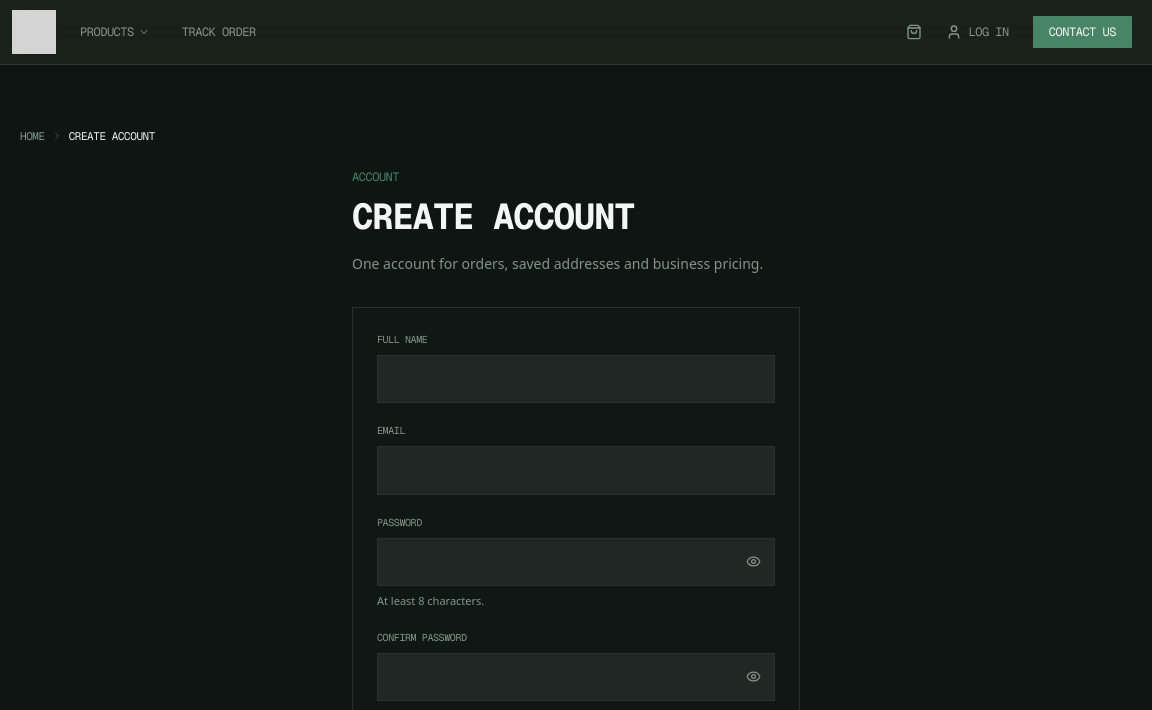
Test: signup › reports an existing account
Expected: the heading "Create Account" is shown, [352, 192, 634, 240]
In the field labelled "Full name": (576, 379) [377, 355, 775, 403], type "Chris"
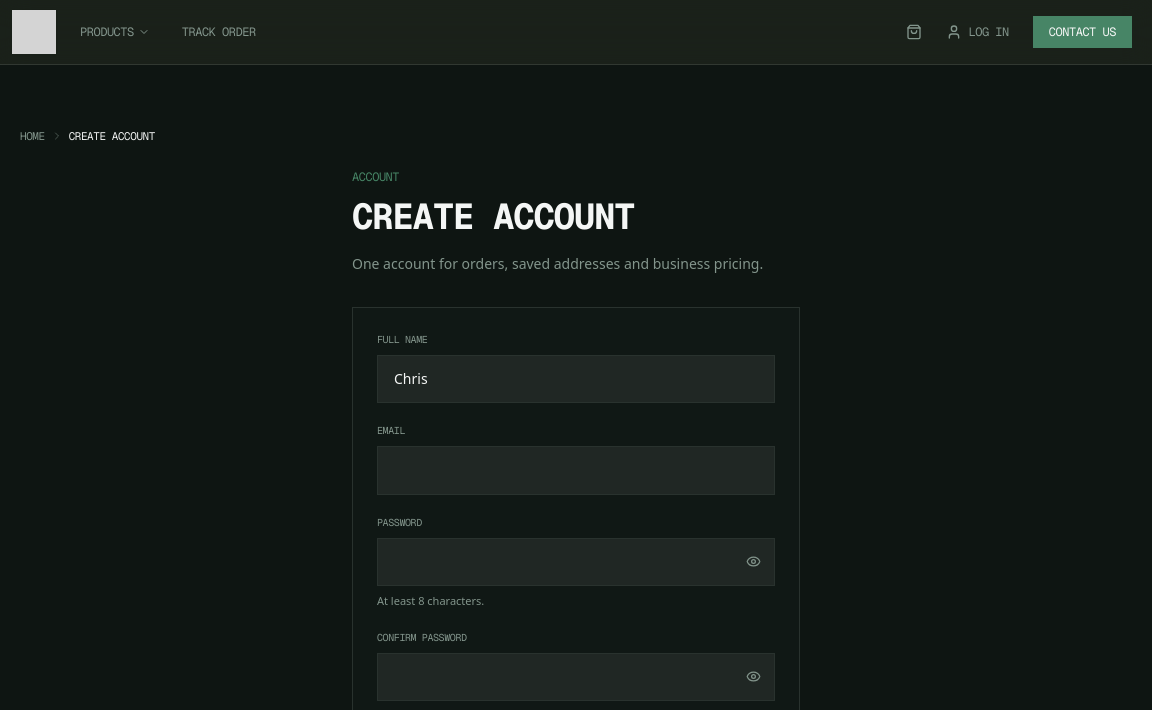
In the field labelled "Email": (576, 470) [377, 446, 775, 495], type "customer@example.com"
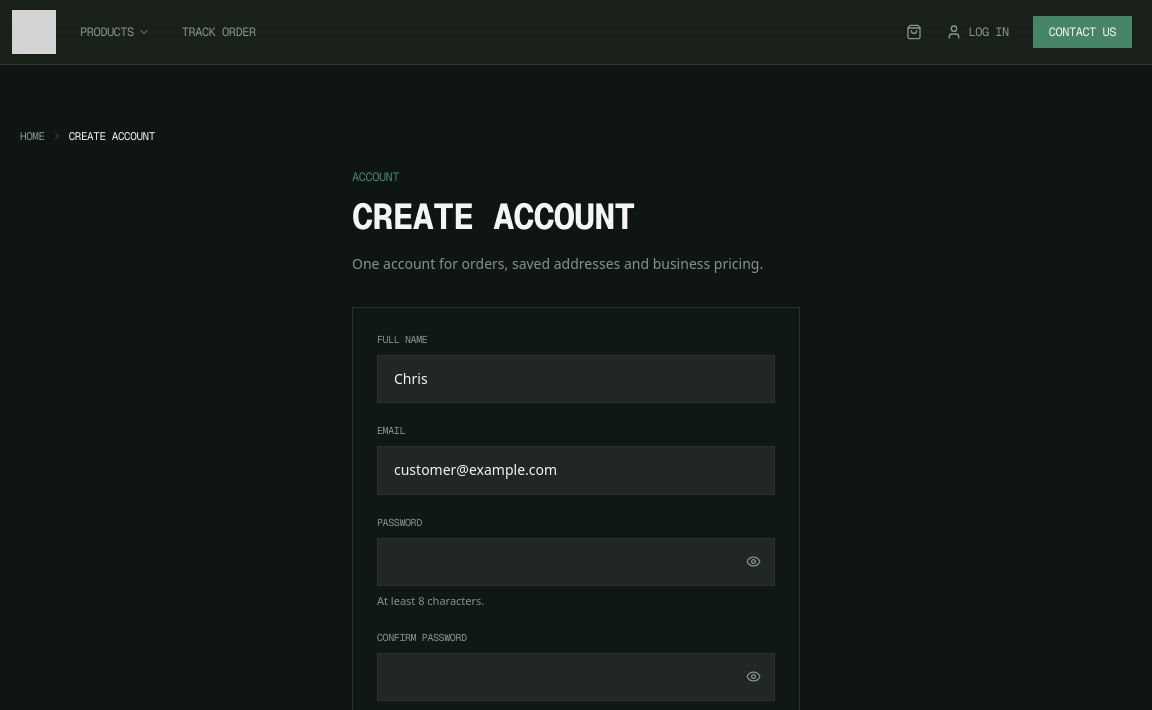
In the password field labelled "Password": (576, 562) [377, 538, 775, 586], type "longenough1"
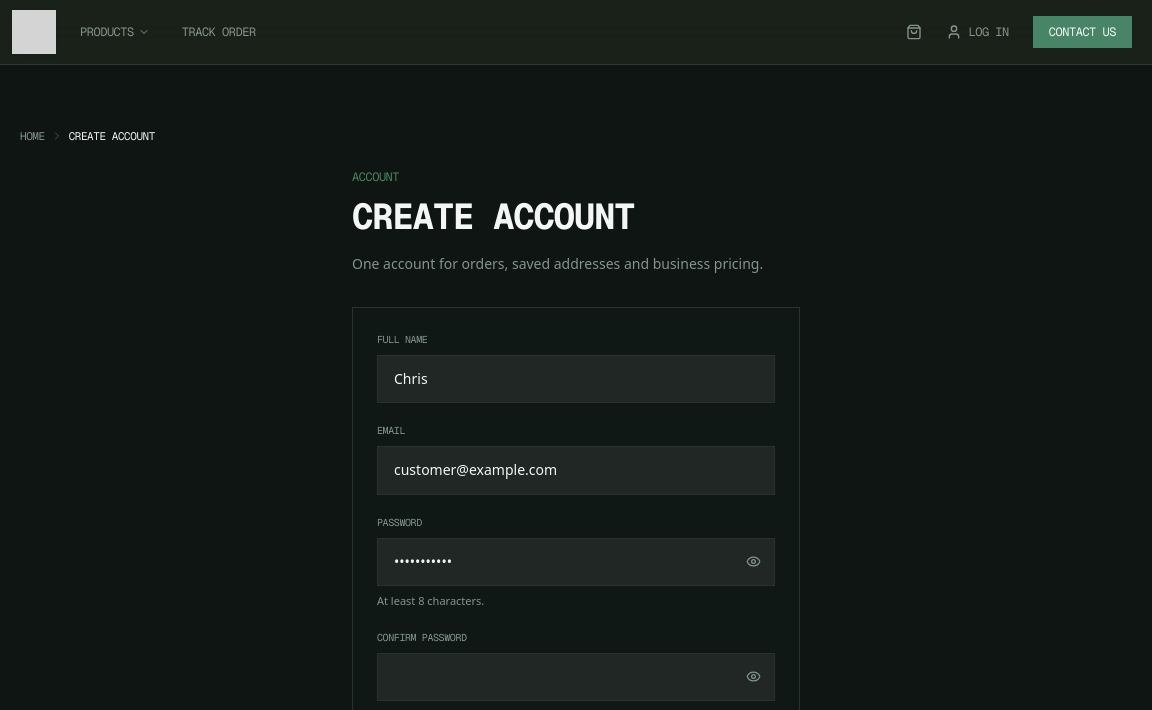
In the password field labelled "Confirm password": (576, 677) [377, 653, 775, 701], type "longenough1"
(page scrolled)
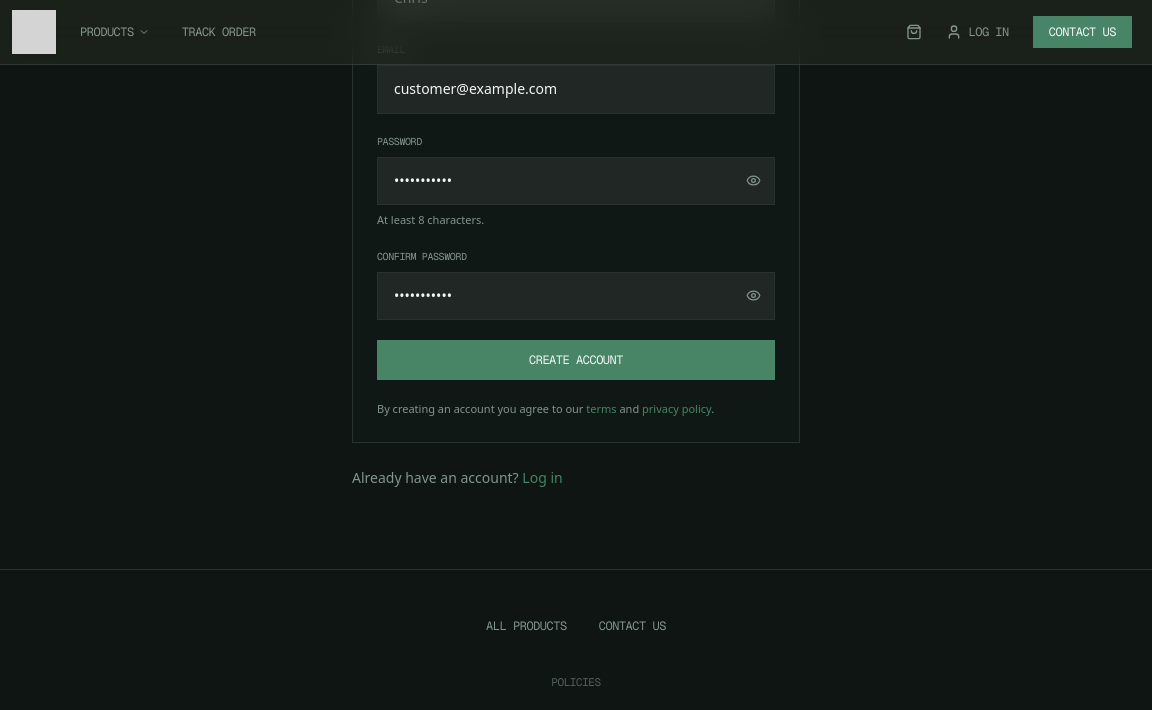
Click the button "Create Account": (576, 360) [377, 340, 775, 380]
(page scrolled)
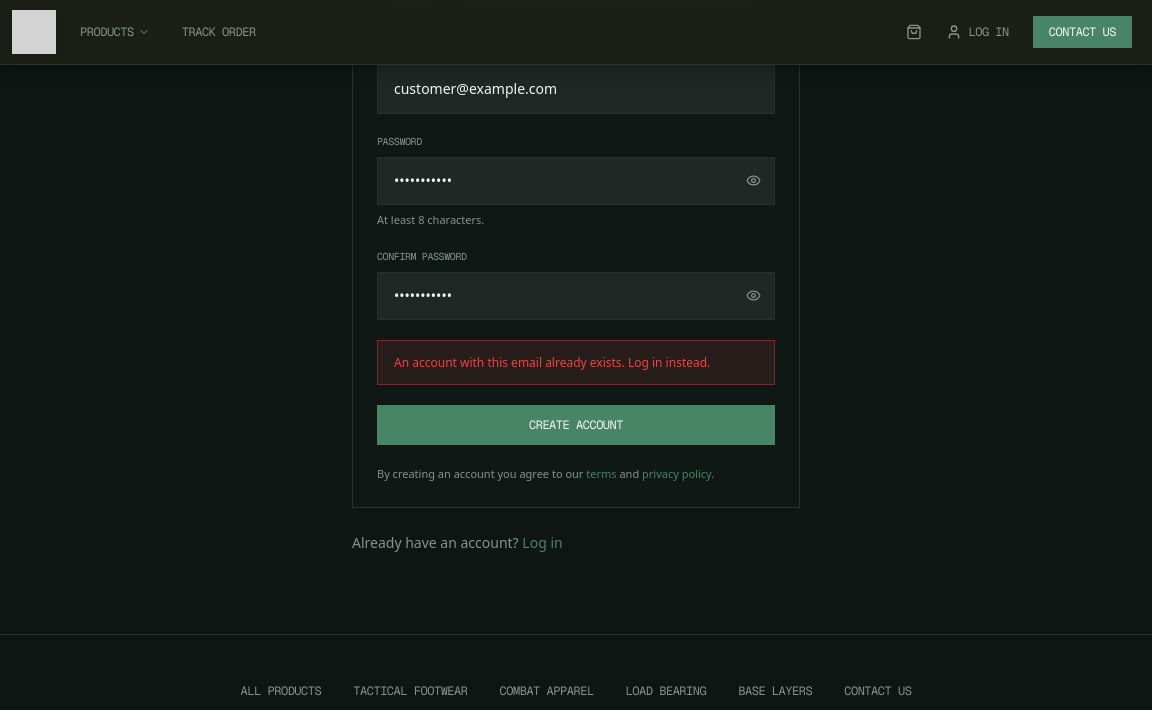
Result: the text "An account with this email already exists. Log in instead." is shown at [377, 340, 775, 385]
